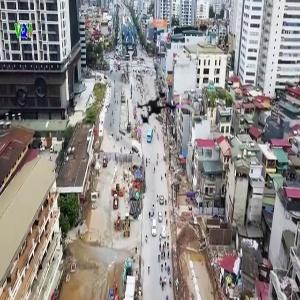drone: (128, 83, 189, 144)
